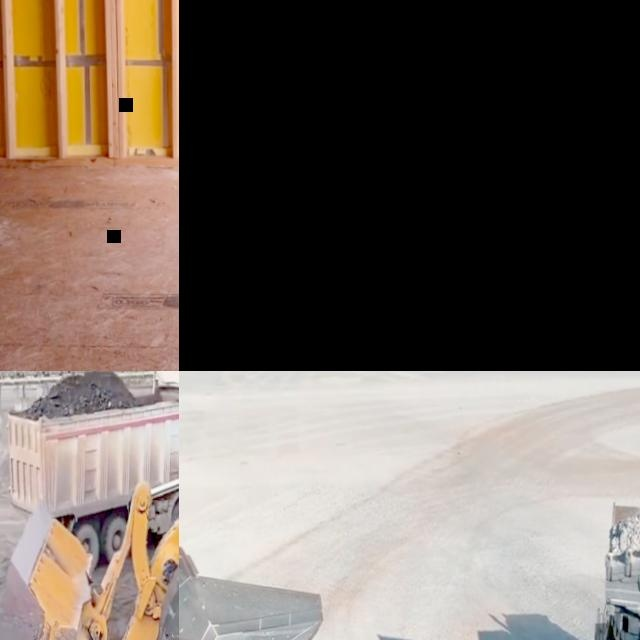machinery: (0, 371, 179, 640), (2, 371, 179, 567), (179, 527, 331, 640)
